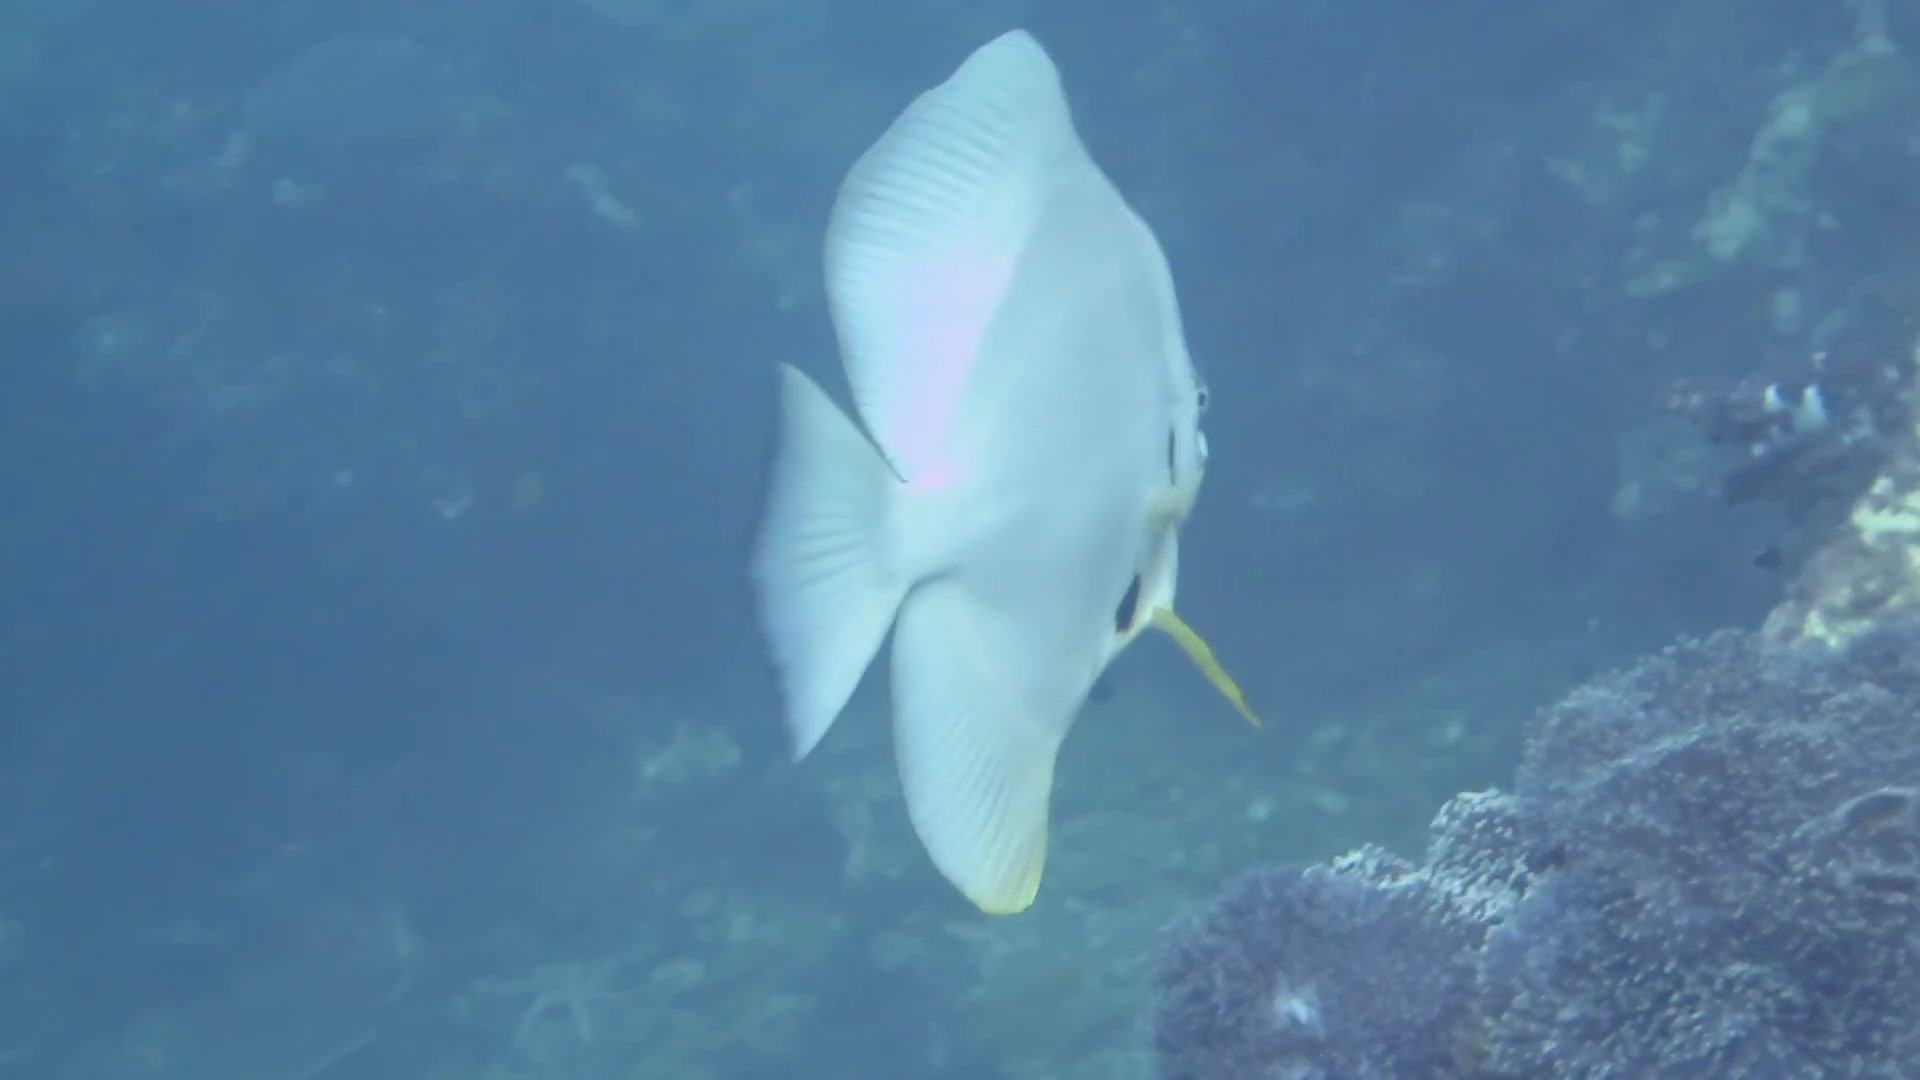Platax teira: (582, 7, 1535, 905)
